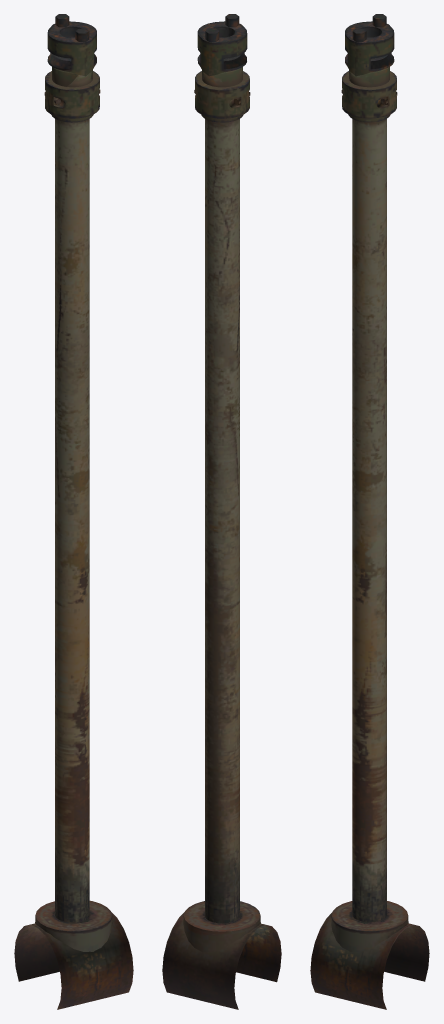
File: Gun_09.glb
The picture shows the model from 3 angles, left to right: view 1: azimuth 30°, elevation 25°; view 2: azimuth 150°, elevation 25°; view 3: azimuth 330°, elevation 25°; orthographic projection.
Parts seen in each view (by area): view 1: set_0_group_0; view 2: set_0_group_0; view 3: set_0_group_0.
Boxes of the visible parts, x1,y1,x2,y2 form: set_0_group_0: (14,14,133,1009); set_0_group_0: (162,14,281,1009); set_0_group_0: (310,14,429,1009).
Bounding box in the file's own units: 0.347 × 4.44 × 0.3938.
1 material, 1 textured.
